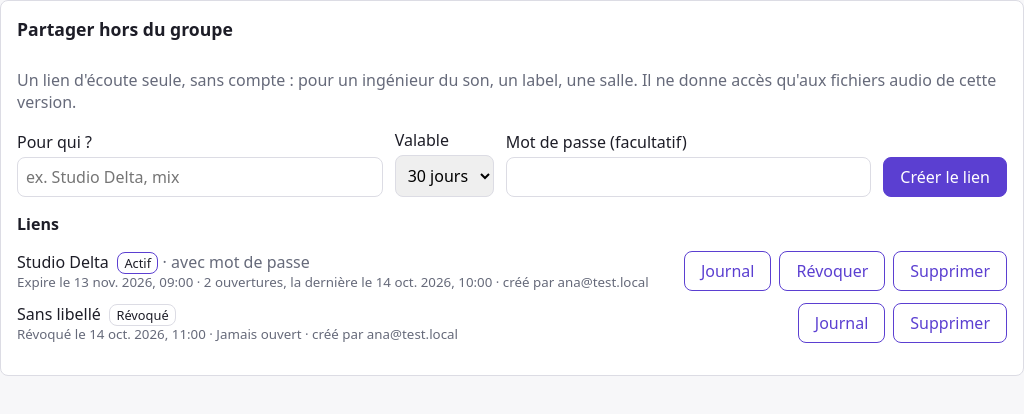
Test: ShareLinksPanel › refuse un mot de passe trop court avant l'envoi
Type "12345" into the password field with id "share-password" at (688, 177), box [506,157,871,197]
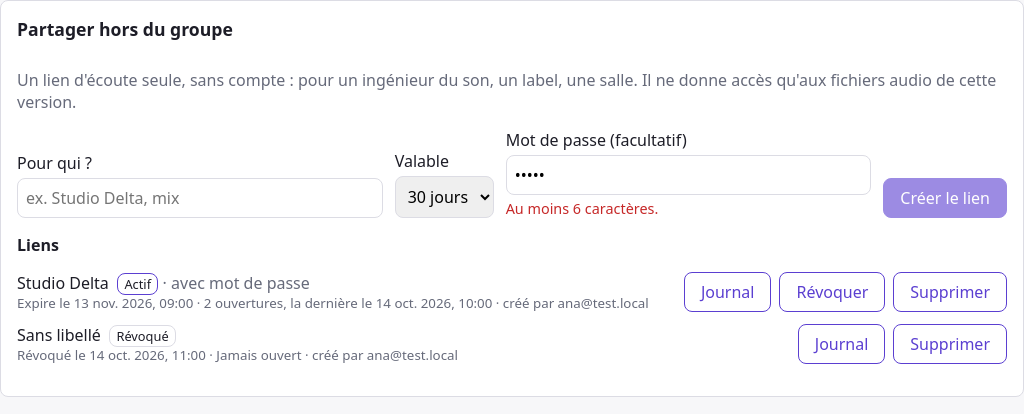
Check: the text "Au moins 6 caractères." is shown, box [506,199,658,218]
Check: the submit button is disabled, box [883,178,1007,218]
